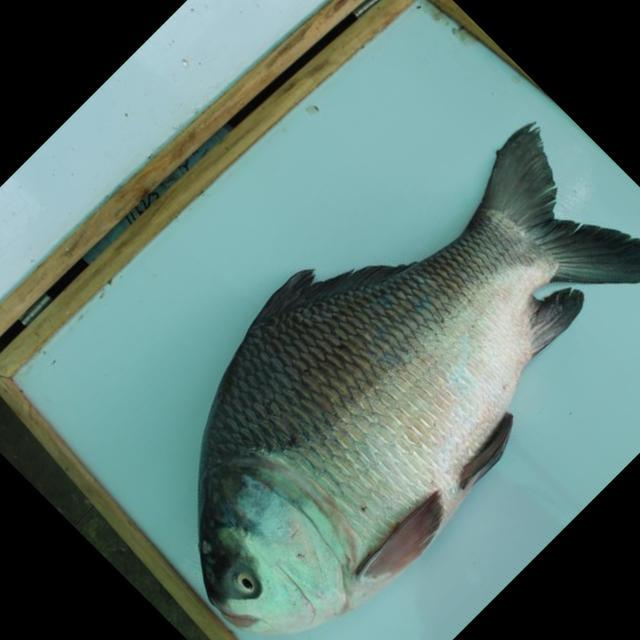Catla: (173, 124, 640, 635)
